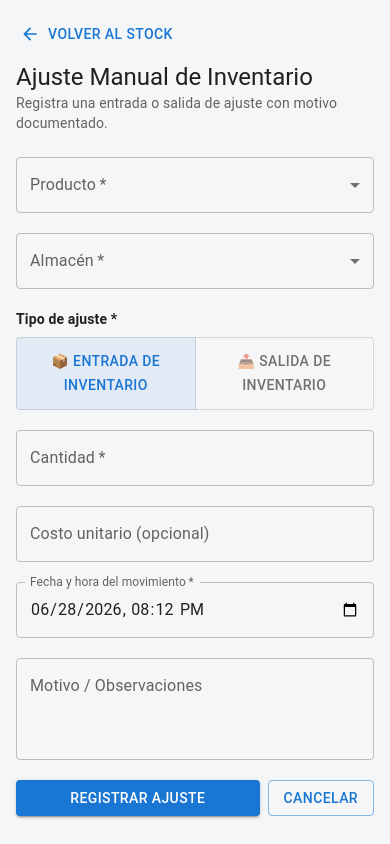
Test: AjusteInventarioPage › shows stock info panel when product and warehouse are selected
Note: Select product (MUI Select: click combobox, then the option in the portal)
Step 1. Click the dropdown named "producto" next to "Producto" → (195, 184), box [16,156,374,212]
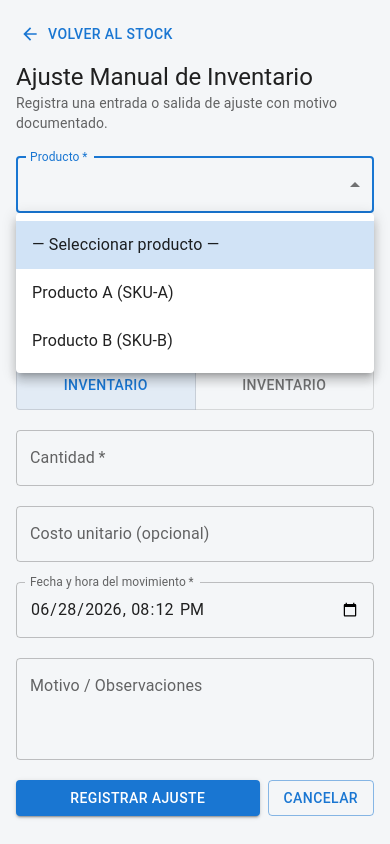
Step 2. Click the option "Producto A (SKU-A)" → (103, 292), box [32,283,174,302]
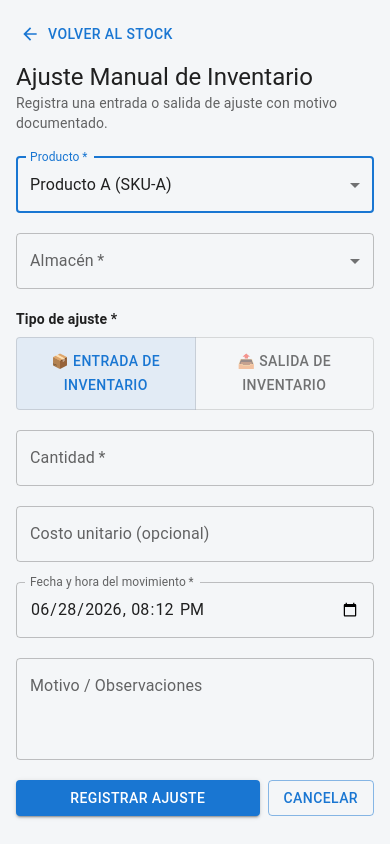
Note: Select warehouse
Step 3. Click the dropdown named "almacén" → (195, 260), box [16,232,374,288]
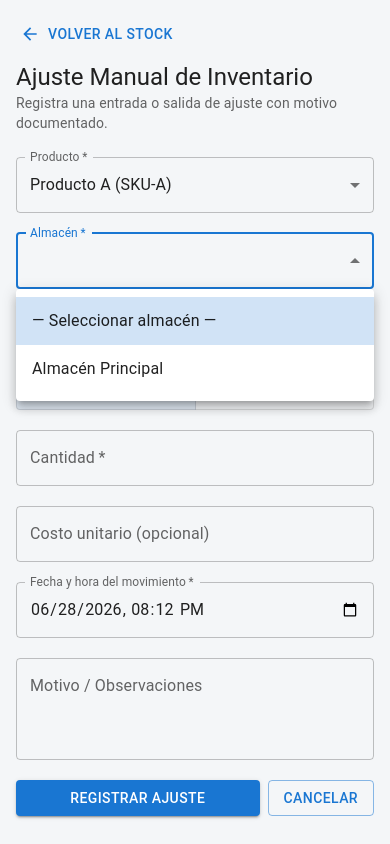
Step 4. Click the option "Almacén Principal" → (98, 368), box [32,359,163,378]
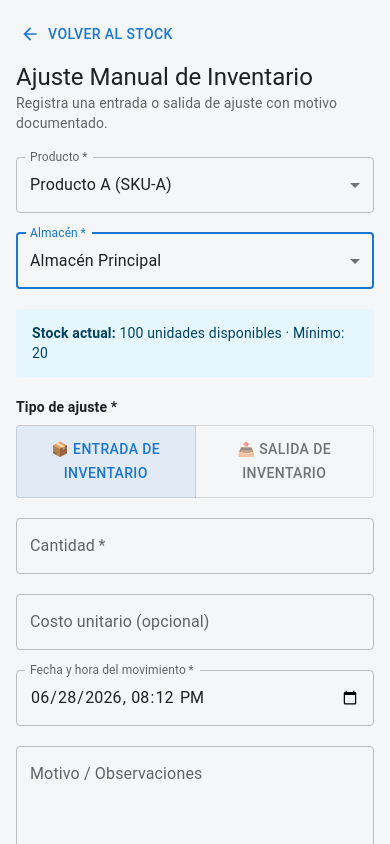
Check: the text "Stock actual:" is shown, box [32,324,116,340]
